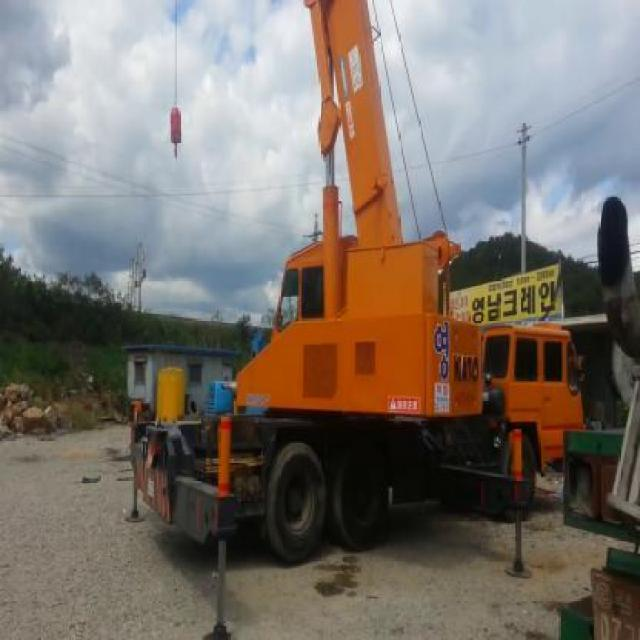Mobile Crane: (123, 0, 588, 562)
